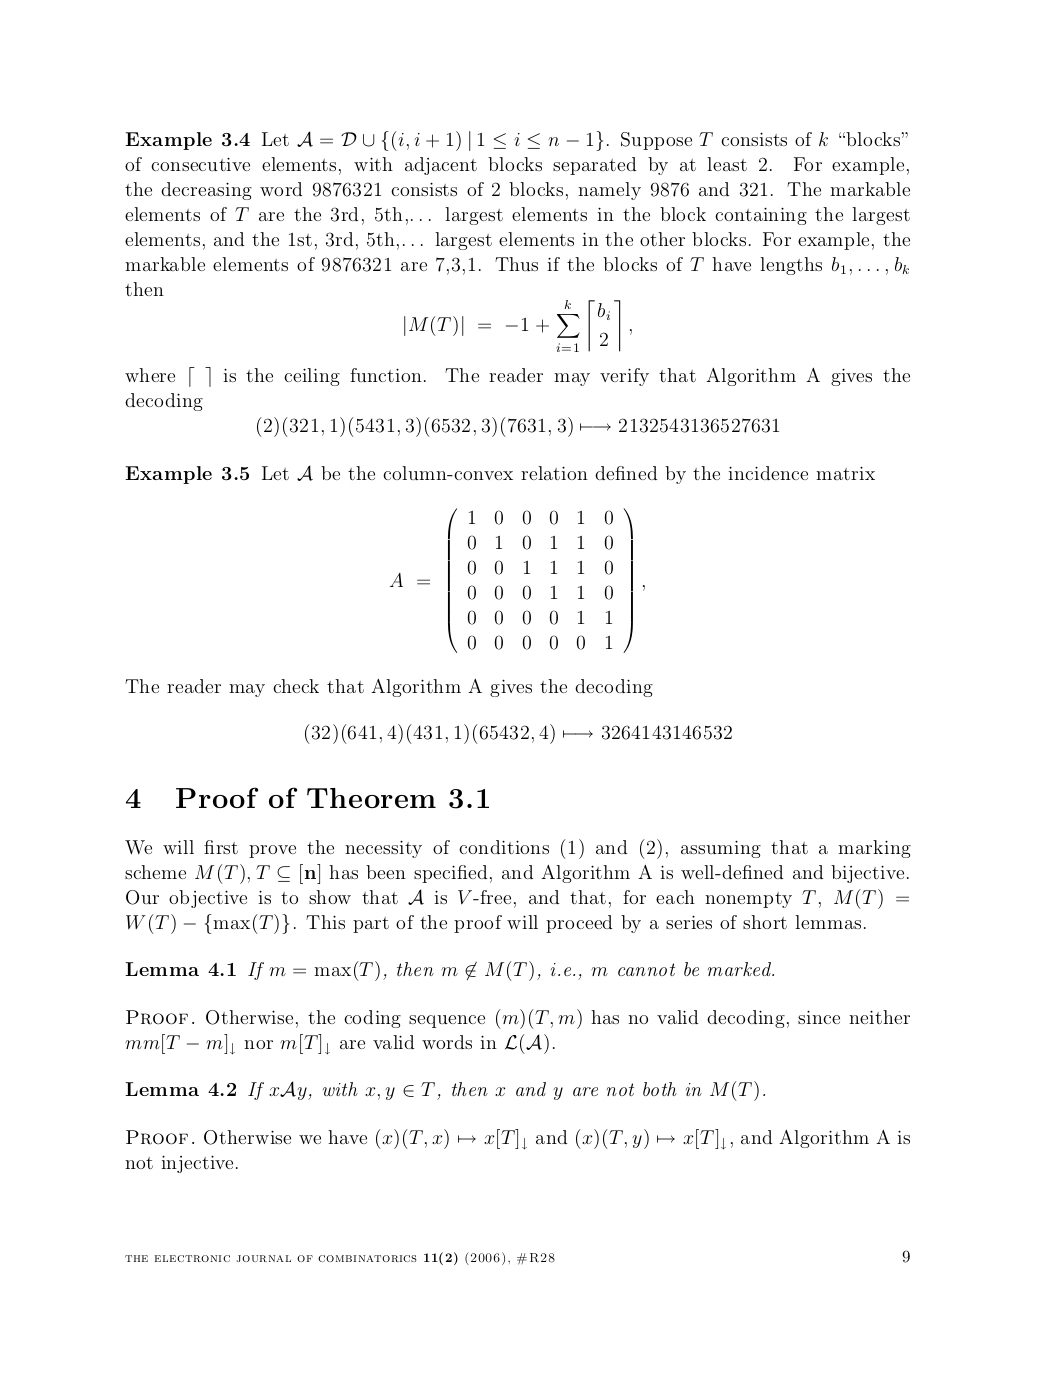formula: (389, 507, 644, 653), (403, 299, 631, 352), (305, 722, 731, 744)
